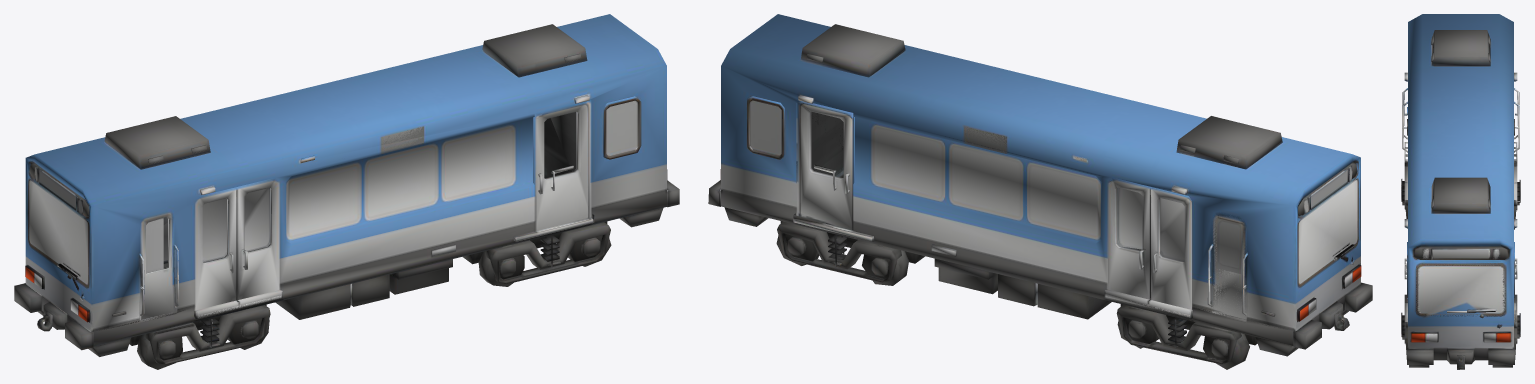
Rendered from 019e11e7-42e1-77fb-a621-fcfbdd7bbb35.glb.
The picture shows the model from 3 angles, left to right: view 1: azimuth 30°, elevation 25°; view 2: azimuth 150°, elevation 25°; view 3: azimuth 270°, elevation 25°; orthographic projection. The views are drawn at different scales.
Visible parts, largest first — view 1: tripo_node_0fd0cf67-6d81-44d5-87c7-01b511e60b6c; view 2: tripo_node_0fd0cf67-6d81-44d5-87c7-01b511e60b6c; view 3: tripo_node_0fd0cf67-6d81-44d5-87c7-01b511e60b6c.
Part boxes in pixels (box(x1,y1,x2,y2)): tripo_node_0fd0cf67-6d81-44d5-87c7-01b511e60b6c: box(14, 14, 679, 369); tripo_node_0fd0cf67-6d81-44d5-87c7-01b511e60b6c: box(708, 14, 1372, 369); tripo_node_0fd0cf67-6d81-44d5-87c7-01b511e60b6c: box(1401, 14, 1520, 369).
Size of the model in its own units: 0.998 by 0.3184 by 0.209.
1 material, 1 textured.
